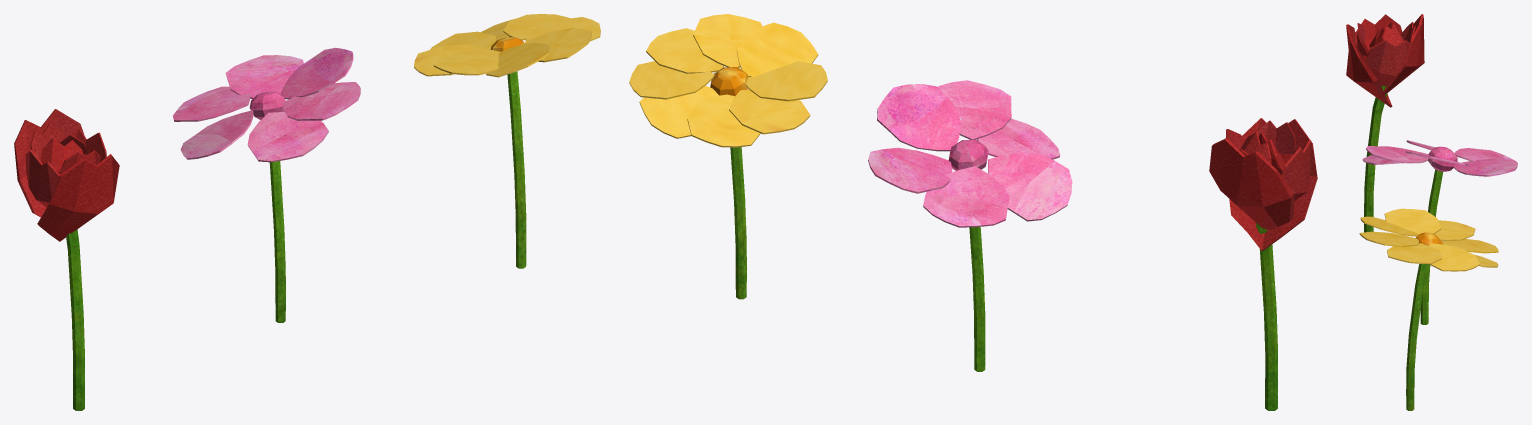
File: asset.glb
3 renders of one model, left to right at view 1: azimuth 30°, elevation 25°; view 2: azimuth 150°, elevation 25°; view 3: azimuth 270°, elevation 25°, orthographic. The views are drawn at different scales.
Parts seen in each view (by area): view 1: Cube; view 2: Cube; view 3: Cube.
Boxes of the visible parts, x1,y1,x2,y2 form: Cube: [14, 14, 600, 410]; Cube: [629, 14, 1317, 410]; Cube: [1346, 14, 1517, 410].
Bounding box in the file's own units: 1000 × 446 × 320.
Materials: 1 (1 with a texture image).
